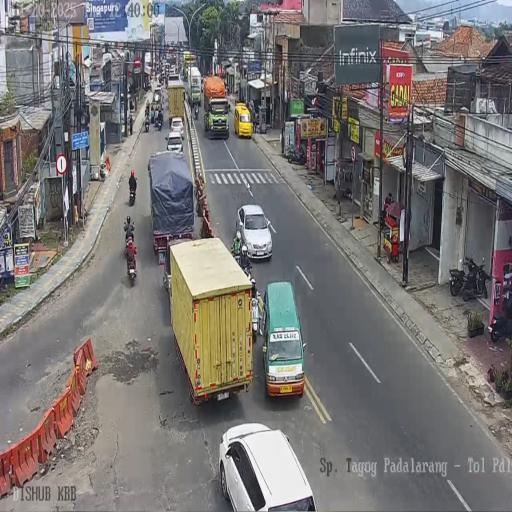3: (168, 238, 257, 407), (147, 150, 195, 264), (203, 75, 228, 137), (183, 51, 196, 80), (161, 59, 168, 73)
car: (217, 422, 316, 510), (262, 282, 306, 398), (236, 204, 274, 262), (234, 103, 252, 139), (163, 241, 172, 297), (170, 116, 184, 139), (170, 64, 176, 76), (156, 79, 162, 88)
truck: (461, 254, 490, 302), (488, 304, 511, 342), (449, 266, 466, 296), (285, 144, 306, 165), (126, 248, 138, 282), (124, 230, 134, 255), (341, 184, 353, 200), (128, 184, 136, 205), (156, 108, 163, 130), (144, 114, 150, 132), (144, 77, 151, 92), (194, 102, 199, 120), (162, 75, 168, 88)
